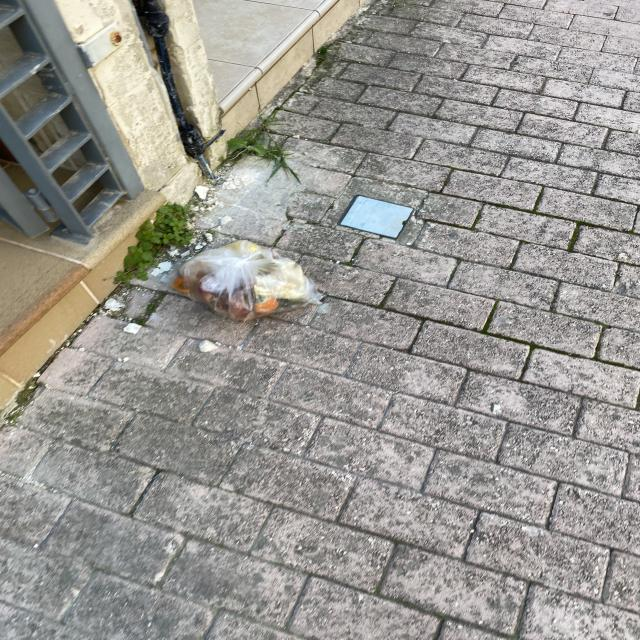Organic Waste: (168, 236, 334, 324)
